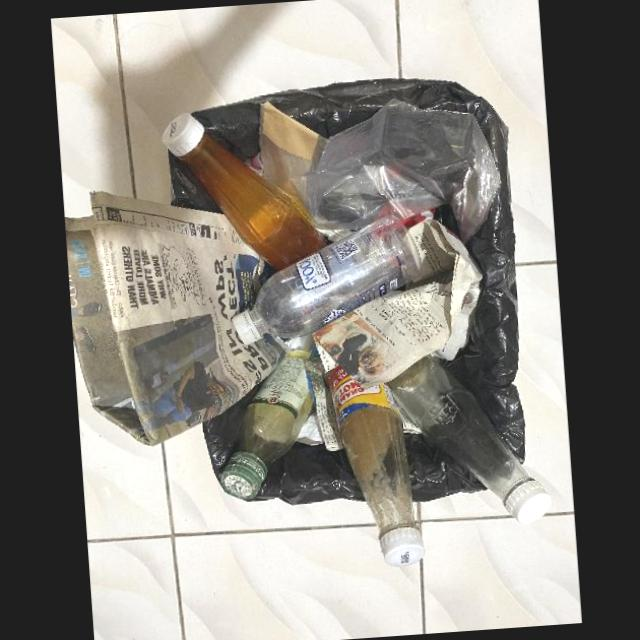chai_nhua_pet: (231, 214, 422, 344)
chai_thuy_tinh: (388, 353, 552, 523), (161, 112, 328, 271), (326, 354, 425, 567), (221, 349, 314, 498)
giay: (65, 191, 291, 446), (305, 218, 485, 451)
tui_ni_long: (259, 99, 499, 244)
